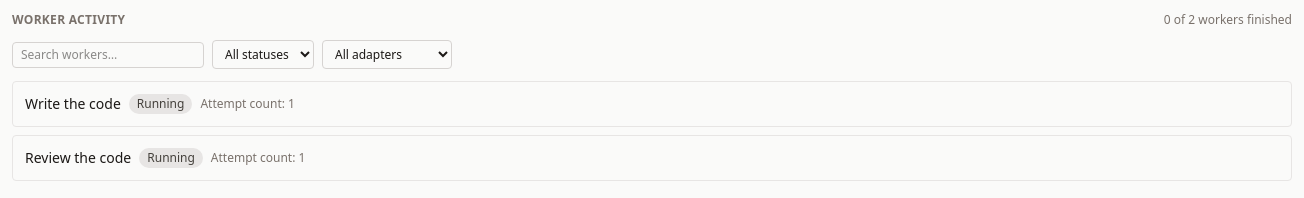
CeoWorkerActivityPanel › filters by search across title/objective
Type "review" into the search field labelled "Search workers" at (108, 54), box [12,42,204,68]
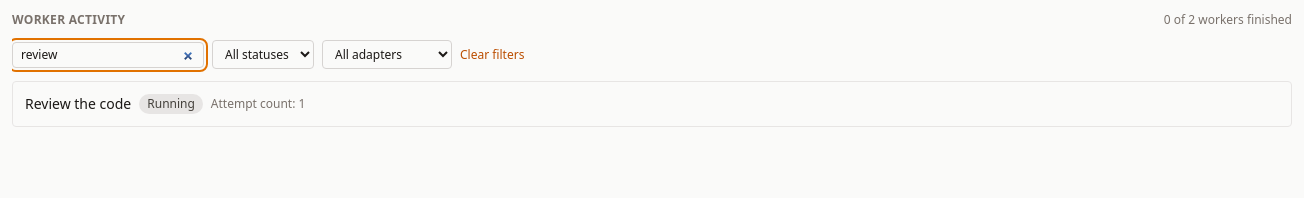
Expected: the text "Review the code" is shown, [25,94,131,114]
Expected: the heading "Write the code" is gone
